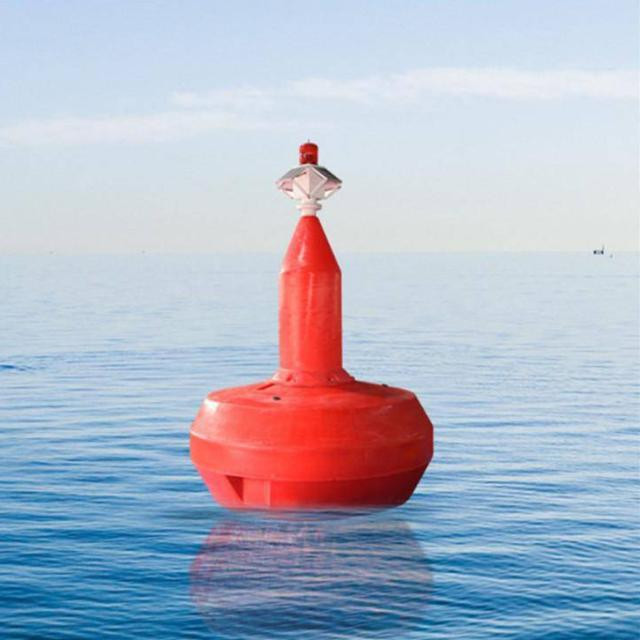buoy: (180, 135, 435, 518)
